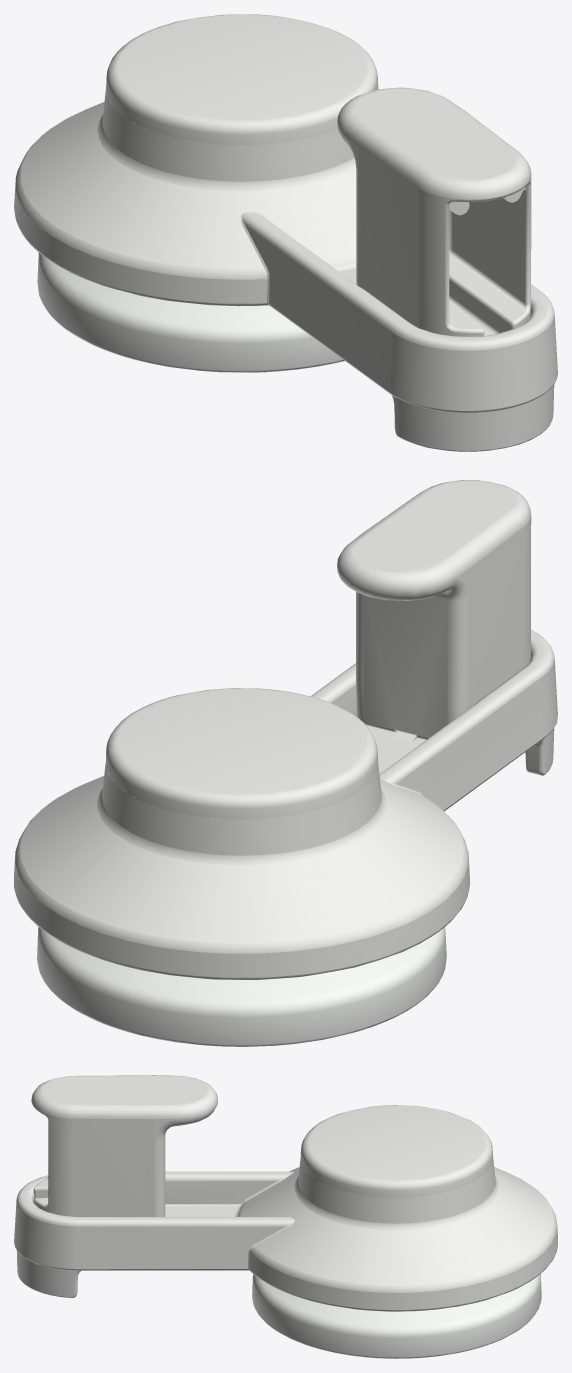
Rendered from tisken_wieszak_z_przyssawka_70381275.glb.
3 views of the same model, one above another, from view 1: azimuth 30°, elevation 25°; view 2: azimuth 150°, elevation 25°; view 3: azimuth 270°, elevation 25° (orthographic). The views are drawn at different scales.
Parts seen in each view (by area): view 1: tisken_wieszak_z_przyssawka_70381275; view 2: tisken_wieszak_z_przyssawka_70381275; view 3: tisken_wieszak_z_przyssawka_70381275.
Boxes of the visible parts, x1,y1,x2,y2 form: tisken_wieszak_z_przyssawka_70381275: (14,14,557,451); tisken_wieszak_z_przyssawka_70381275: (14,480,557,1046); tisken_wieszak_z_przyssawka_70381275: (14,1075,557,1358).
Bounding box in the file's own units: 0.0612 × 0.0435 × 0.1031.
Materials: 2 (2 with a texture image).
